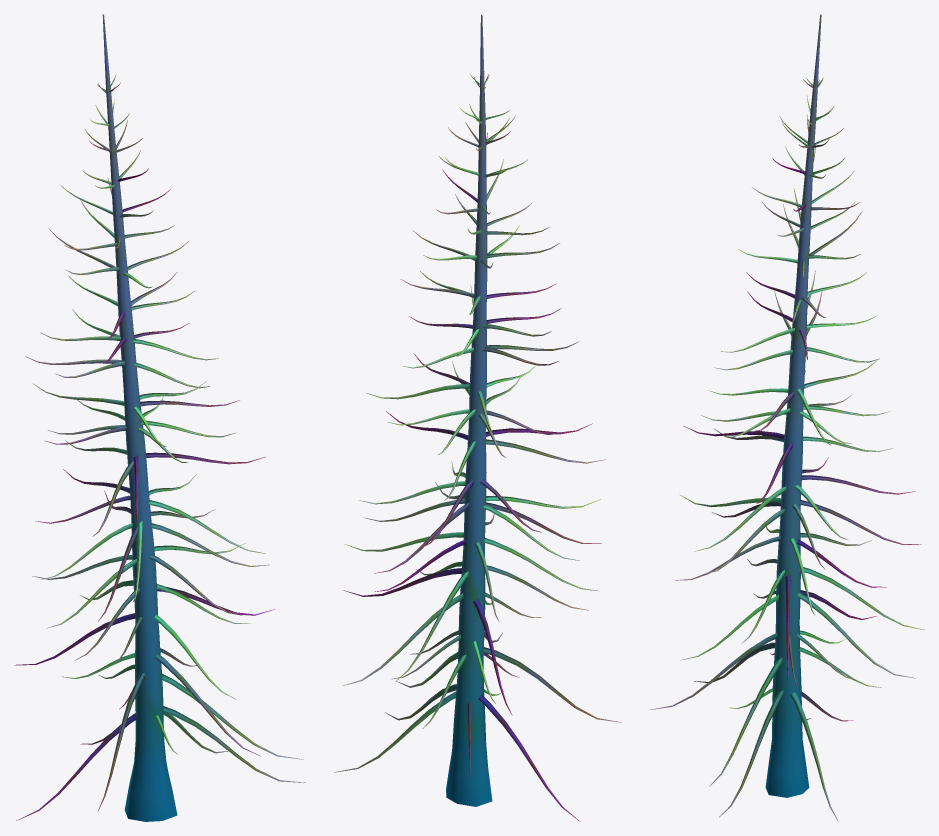
Rendered from spruce-grove-a.glb.
3 views of the same model, side by side, from view 1: azimuth 30°, elevation 25°; view 2: azimuth 150°, elevation 25°; view 3: azimuth 270°, elevation 25° (orthographic). The views are drawn at different scales.
Visible parts, largest first — view 1: bark; view 2: bark; view 3: bark.
Boxes of the visible parts, x1,y1,x2,y2 form: bark: (14,14,305,821); bark: (334,14,621,821); bark: (650,14,924,821).
Bounding box in the file's own units: 7.96 × 24.41 × 8.01.
